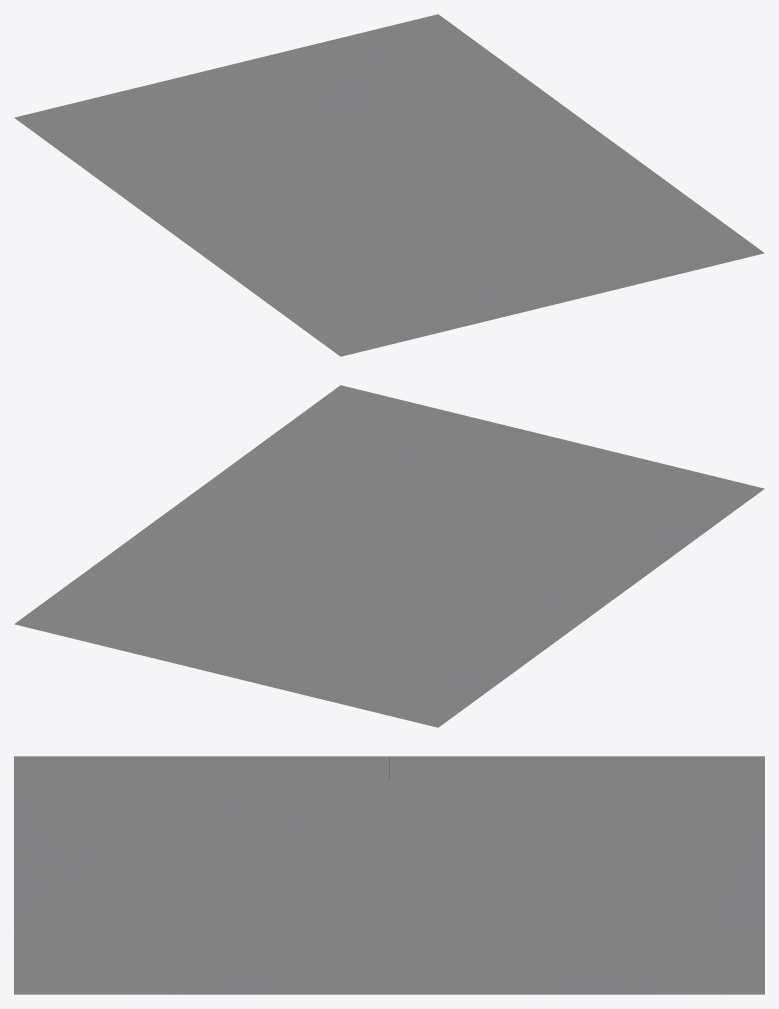
Rendered from Felix_Reshet_Tzel.gltf.
3 views of the same model, one above another, from view 1: azimuth 30°, elevation 25°; view 2: azimuth 150°, elevation 25°; view 3: azimuth 270°, elevation 25° (orthographic). The views are drawn at different scales.
Visible parts, largest first — view 1: node1; view 2: node1; view 3: node1.
Boxes of the visible parts, x1,y1,x2,y2 form: node1: (14,14,764,356); node1: (14,385,764,727); node1: (14,756,764,994).
Bounding box in the file's own units: 6 × 0.3384 × 8.
